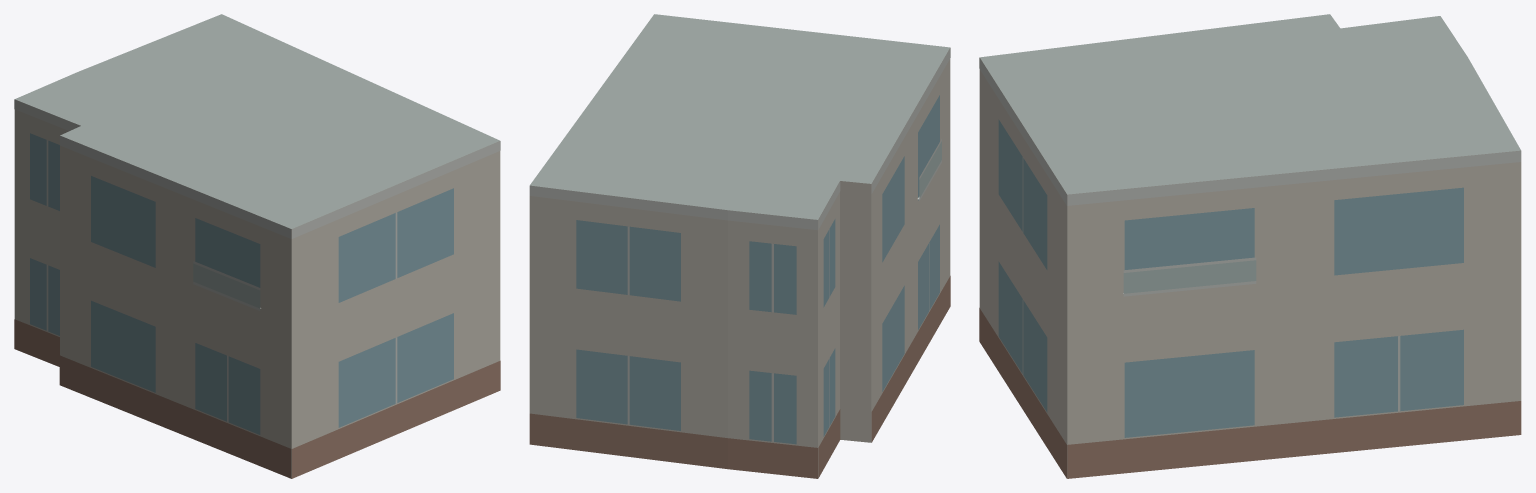
Rendered from survey-upis-32788205.glb.
3 views of the same model, side by side, from view 1: azimuth 30°, elevation 25°; view 2: azimuth 150°, elevation 25°; view 3: azimuth 270°, elevation 25° (orthographic). The views are drawn at different scales.
Parts seen in each view (by area): view 1: survey-upis-32788205.tmp; view 2: survey-upis-32788205.tmp; view 3: survey-upis-32788205.tmp.
Boxes of the visible parts, left/top/right/bottom form: survey-upis-32788205.tmp: left=14, top=14, right=500, bottom=478; survey-upis-32788205.tmp: left=529, top=14, right=950, bottom=478; survey-upis-32788205.tmp: left=979, top=14, right=1521, bottom=478.
Size of the model in its own units: 8.32 by 6.1 by 10.55.
